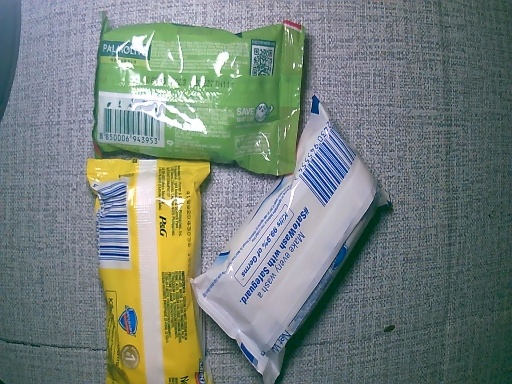plastic: (188, 96, 393, 384), (86, 14, 305, 160), (84, 156, 211, 384)
